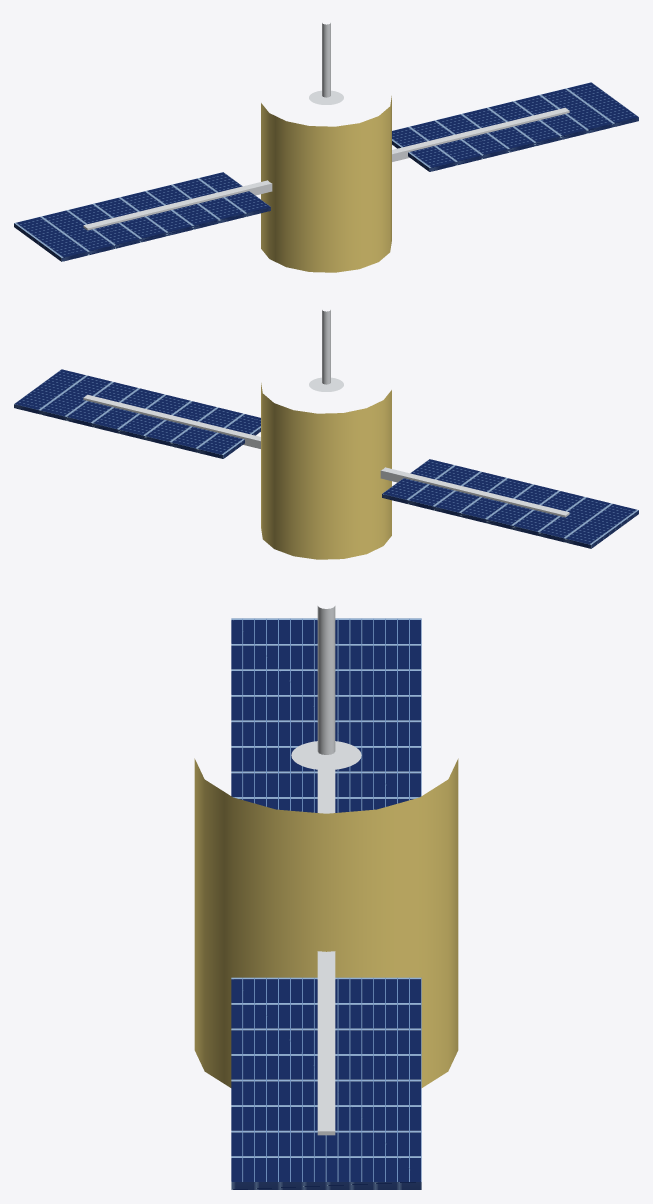
The model's file is satellite.glb.
The picture shows the model from 3 angles, top to bottom: view 1: azimuth 30°, elevation 25°; view 2: azimuth 150°, elevation 25°; view 3: azimuth 270°, elevation 25°; orthographic projection. The views are drawn at different scales.
Parts seen in each view (by area): view 1: corpo_satelite, asa_solar_esquerda, asa_solar_direita, haste, receptor; view 2: corpo_satelite, asa_solar_esquerda, asa_solar_direita, haste, receptor; view 3: corpo_satelite, asa_solar_direita, asa_solar_esquerda, haste, receptor, antena.
Boxes of the visible parts, box(x1,y1,x2,y2) form: corpo_satelite: box(261, 96, 391, 272); asa_solar_esquerda: box(14, 172, 270, 261); asa_solar_direita: box(392, 82, 638, 171); haste: box(83, 107, 569, 230); receptor: box(322, 23, 330, 97); corpo_satelite: box(261, 383, 391, 559); asa_solar_esquerda: box(382, 459, 638, 548); asa_solar_direita: box(14, 369, 260, 458); haste: box(83, 394, 569, 517); receptor: box(322, 310, 330, 384); corpo_satelite: box(194, 758, 458, 1087); asa_solar_direita: box(231, 977, 421, 1189); asa_solar_esquerda: box(231, 618, 421, 812); haste: box(317, 769, 335, 1135); receptor: box(317, 606, 335, 754); antena: box(291, 741, 361, 770).
Size of the model in its own units: 4.55 by 1.68 by 1.5.
3 materials, 1 textured.
